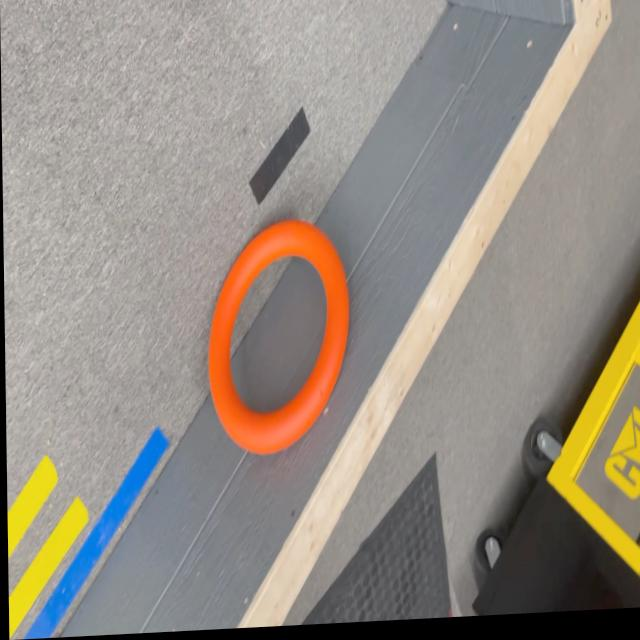note: (206, 221, 349, 458)
